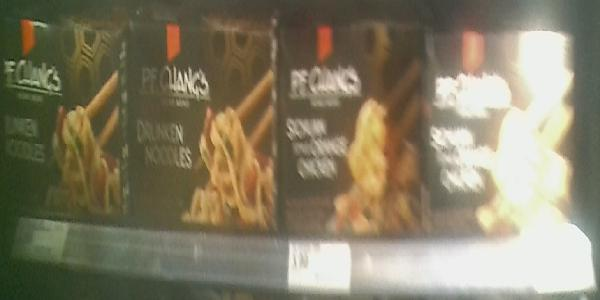pizza1: (127, 21, 280, 238), (423, 28, 577, 239), (279, 25, 422, 236), (1, 16, 126, 230)
